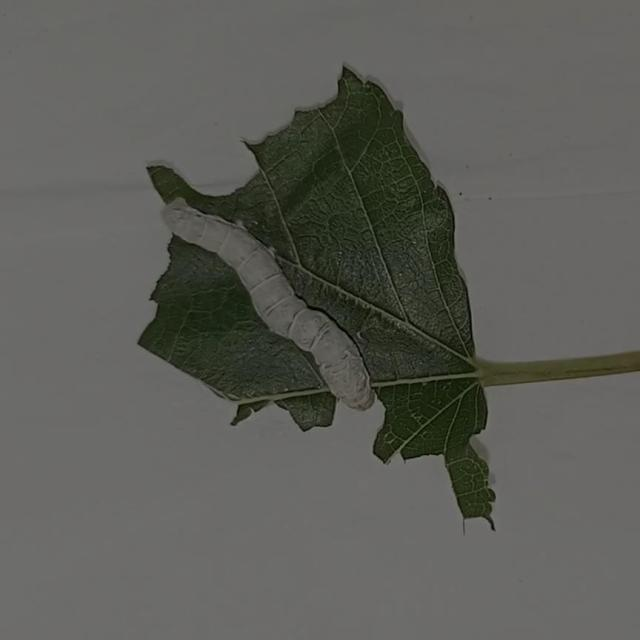Healthy: (144, 163, 407, 463)
